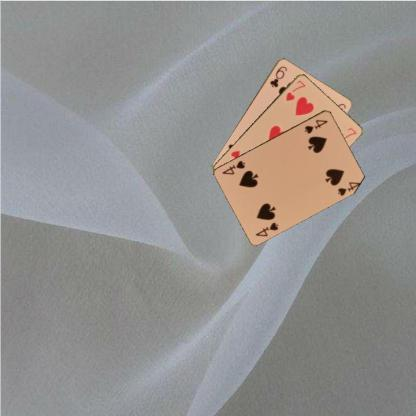4s: (253, 219, 280, 238), (302, 116, 329, 134)
6c: (268, 62, 288, 88)
7h: (283, 78, 307, 102)
